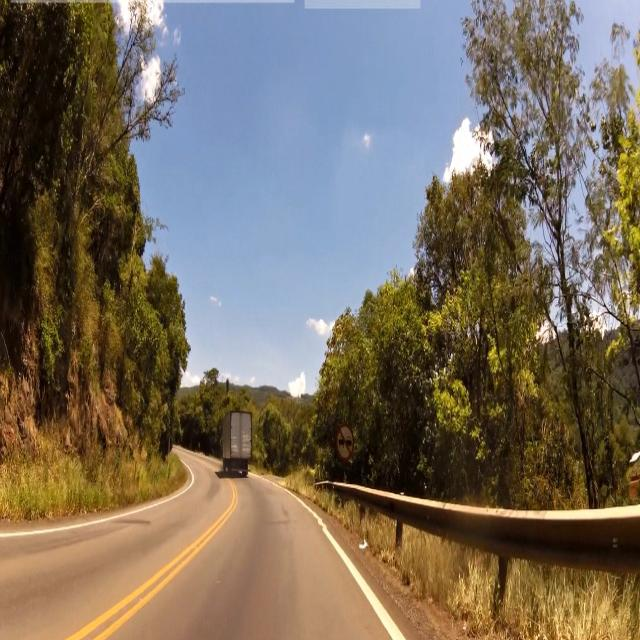R-7: (337, 421, 356, 462)
